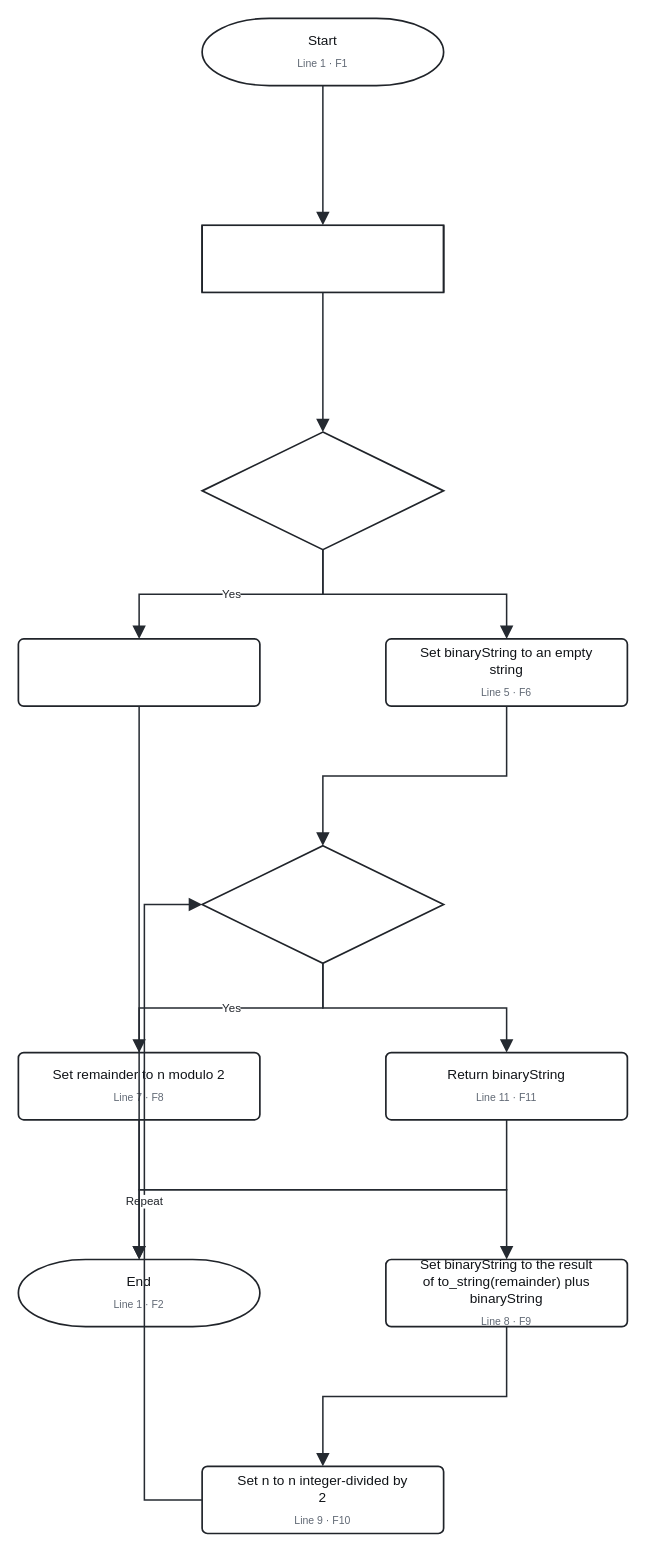
Image size: 647x1553. Some labels were removed from this diagram. The centre of each missing label's shape, as x and y in pixels:
N is equal to 0? Line 2 · F4: (322,490)
N is greater than 0? Line 6 · F7: (322,904)
Return "0" Line 3 · F5: (138,672)
Run function decimalToBinary with n Line 1 · F3: (322,258)
